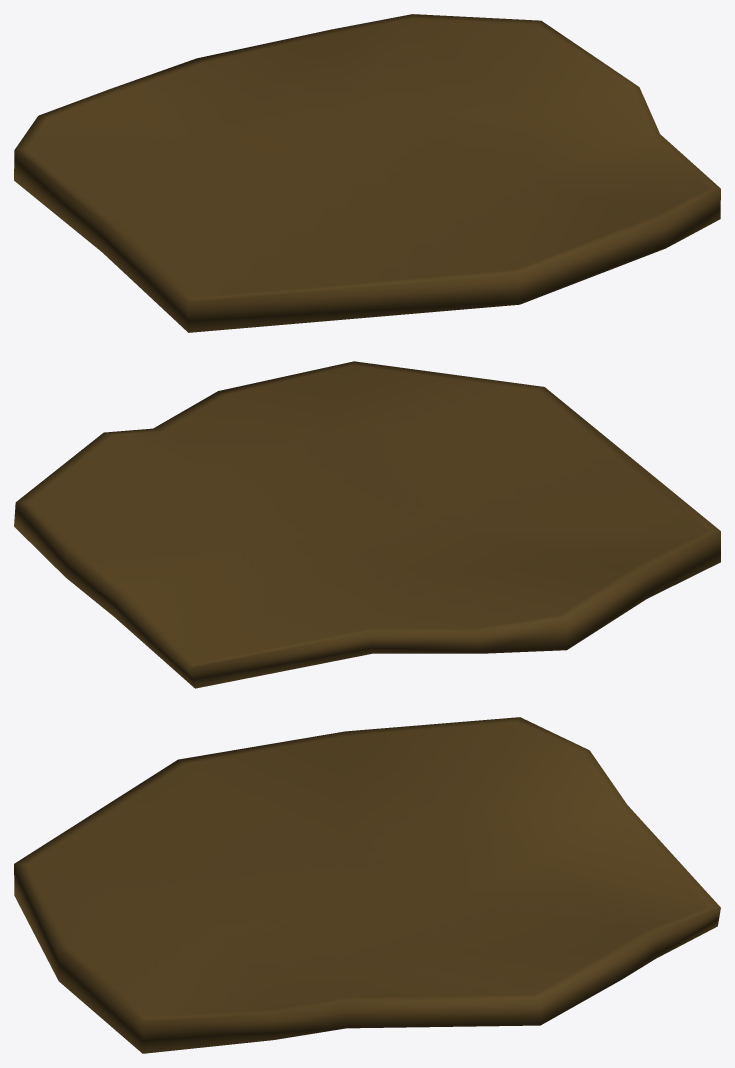
File: 53_Farm 1.fbx
3 renders of one model, top to bottom at view 1: azimuth 30°, elevation 25°; view 2: azimuth 150°, elevation 25°; view 3: azimuth 270°, elevation 25°, orthographic. The views are drawn at different scales.
Parts seen in each view (by area): view 1: Farm; view 2: Farm; view 3: Farm.
Part boxes in pixels (x1,y1,x2,y2): Farm: [14, 14, 720, 332]; Farm: [14, 361, 720, 688]; Farm: [14, 717, 720, 1053].
Size of the model in its own units: 155 by 18.06 by 166.
